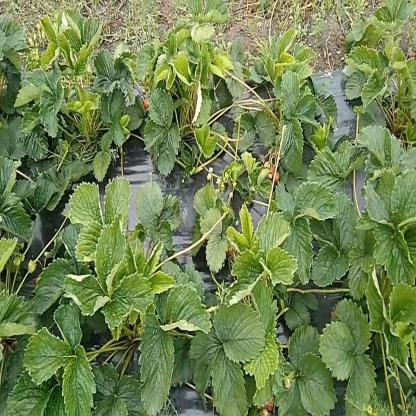ripe: (266, 392, 274, 414), (142, 96, 152, 110), (274, 172, 281, 183)
unripe: (28, 258, 36, 276), (284, 378, 290, 389), (20, 255, 26, 263), (16, 258, 21, 266)
